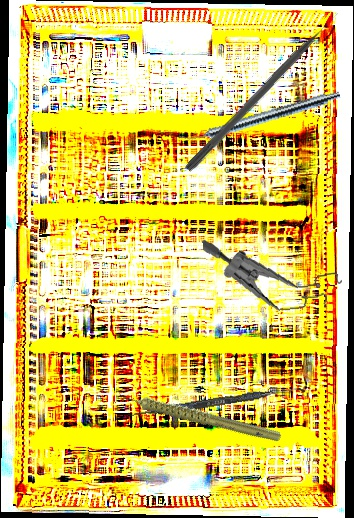Handpiece: (113, 354, 284, 474), (178, 86, 342, 149)
Pusher: (183, 9, 344, 175)
Spatula Surgical: (127, 381, 306, 423)
Speculum: (202, 225, 345, 321)
